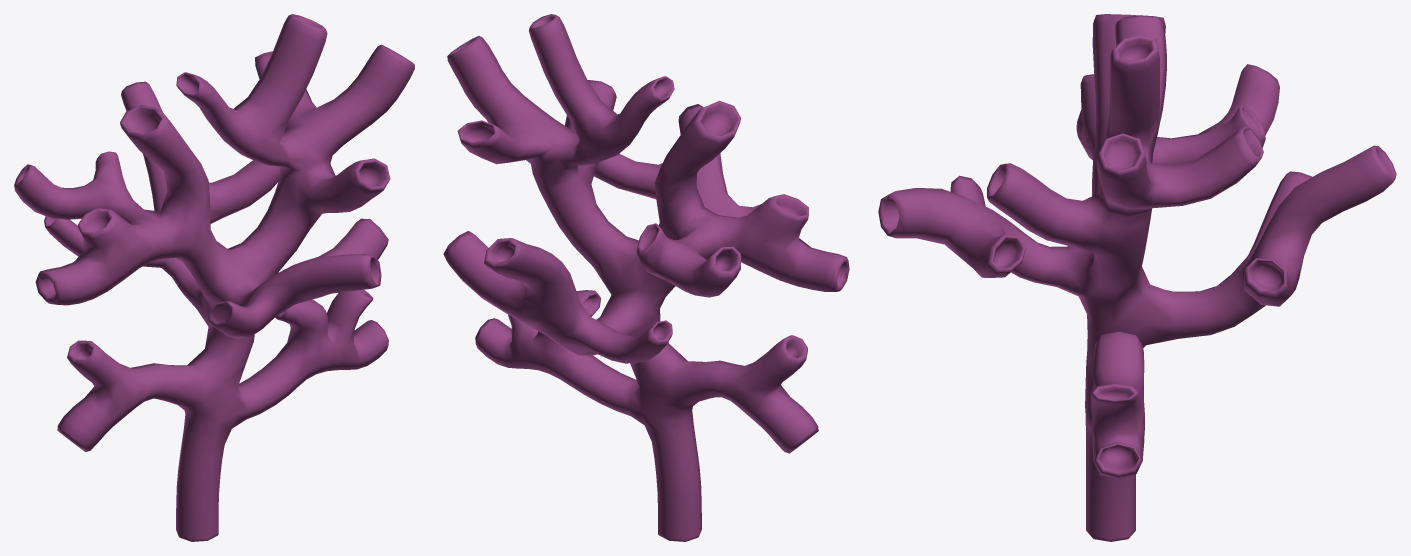
File: coralPurple.fbx
The picture shows the model from 3 angles, left to right: view 1: azimuth 30°, elevation 25°; view 2: azimuth 150°, elevation 25°; view 3: azimuth 270°, elevation 25°; orthographic projection. The views are drawn at different scales.
Visible parts, largest first — view 1: Korall1_LOD00; view 2: Korall1_LOD00; view 3: Korall1_LOD00.
Boxes of the visible parts, bbox=[...] form: Korall1_LOD00: bbox=[14, 14, 414, 541]; Korall1_LOD00: bbox=[443, 14, 849, 541]; Korall1_LOD00: bbox=[878, 14, 1396, 541].
Size of what is drawn, in the model's own units: 62.65 by 76.72 by 64.26.
